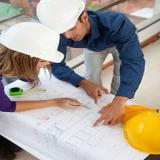Helmet: (0, 21, 64, 63), (35, 0, 86, 34), (123, 110, 160, 155)
